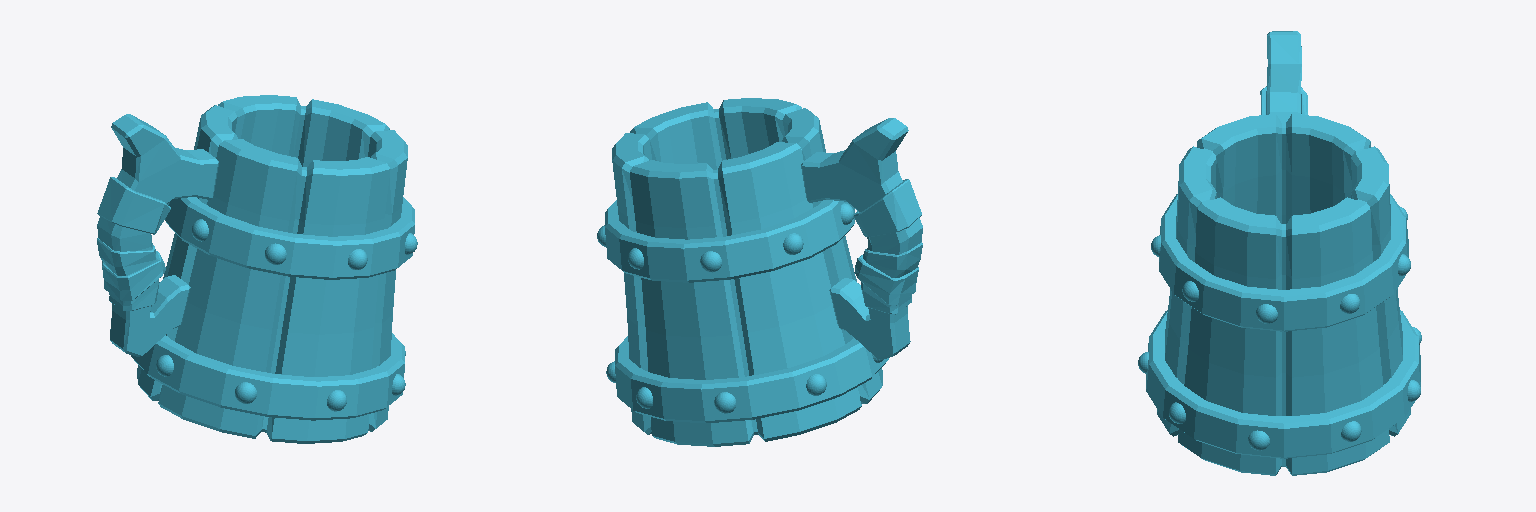
The model's file is beercup.obj.
3 renders of one model, left to right at view 1: azimuth 30°, elevation 25°; view 2: azimuth 150°, elevation 25°; view 3: azimuth 270°, elevation 25°, orthographic.
Parts seen in each view (by area): view 1: Wood_low; view 2: Wood_low; view 3: Wood_low.
Part boxes in pixels (bbox=[...]): Wood_low: bbox=[97, 95, 417, 443]; Wood_low: bbox=[597, 98, 922, 446]; Wood_low: bbox=[1138, 31, 1421, 475].
Size of the model in its own units: 30.27 by 31.78 by 24.8.